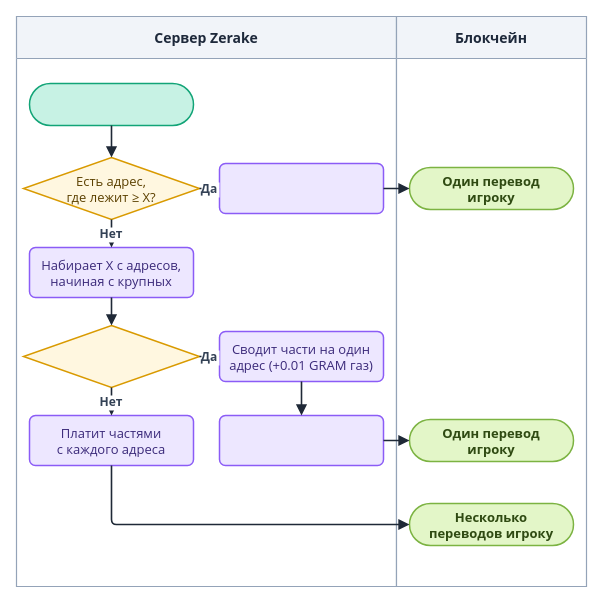
The diagram is 603 pixels wide and 603 high, and some of its shapes have lost their labels. Each missing label, with the centre of its shape:
"Ждёт поступления (до 90 с)" belongs at (x=301, y=440).
"Нужно выплатить X" belongs at (x=111, y=104).
"Платит с самого маленького из них" belongs at (x=301, y=188).
"Сеть TON или GRAM?" belongs at (x=111, y=356).
